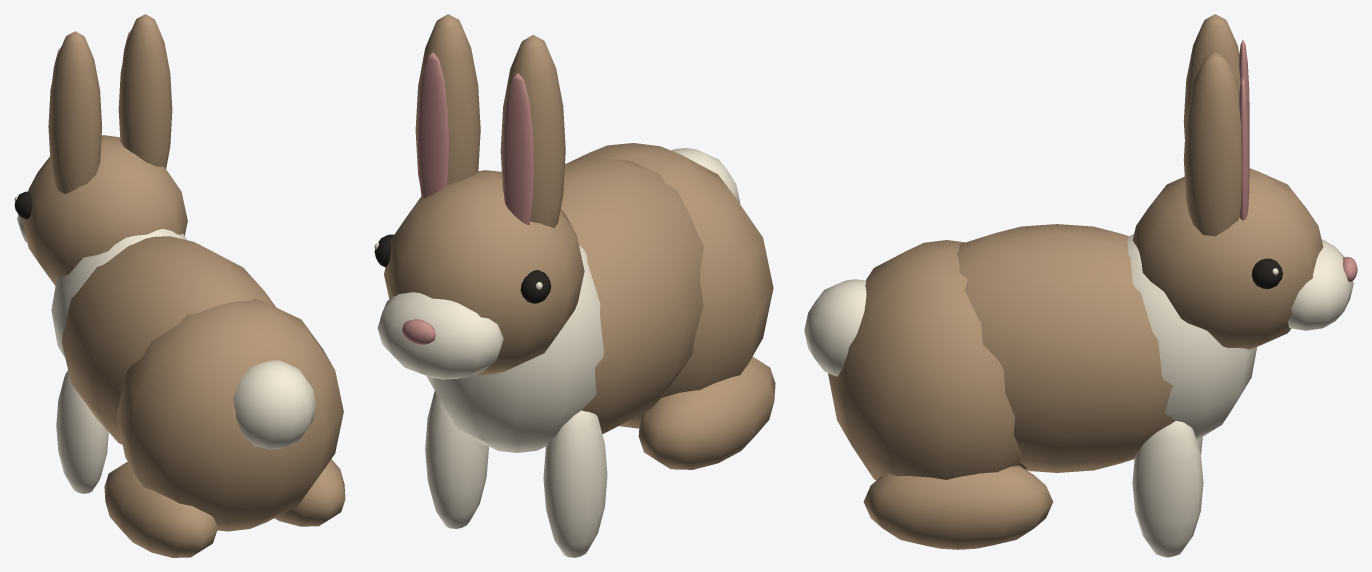
The model's file is rabbit.glb.
3 renders of one model, left to right at view 1: azimuth 30°, elevation 25°; view 2: azimuth 150°, elevation 25°; view 3: azimuth 270°, elevation 25°, orthographic. The views are drawn at different scales.
Parts seen in each view (by area): view 1: body, chest, hind_foot, front_foot, hind_foot.001; view 2: body, chest, hind_foot, nose, front_foot, front_foot.001, eye; view 3: body, chest, hind_foot.001, front_foot.001, nose, eye.
Boxes of the visible parts, x1,y1,x2,y2 form: body: (22, 14, 343, 531); chest: (14, 196, 316, 449); hind_foot: (104, 461, 217, 557); front_foot: (56, 370, 108, 493); hind_foot.001: (274, 459, 345, 526); body: (384, 14, 773, 434); chest: (374, 148, 740, 452); hind_foot: (638, 356, 775, 469); nose: (402, 52, 533, 344); front_foot: (543, 410, 607, 557); front_foot.001: (425, 391, 488, 528); eye: (374, 234, 551, 303); body: (828, 14, 1323, 480); chest: (804, 234, 1353, 440); hind_foot.001: (863, 465, 1053, 549); front_foot.001: (1132, 421, 1203, 557); nose: (1239, 39, 1357, 281); eye: (1252, 258, 1282, 289).
Bounding box in the file's own units: 0.68 × 1.39 × 1.4.
